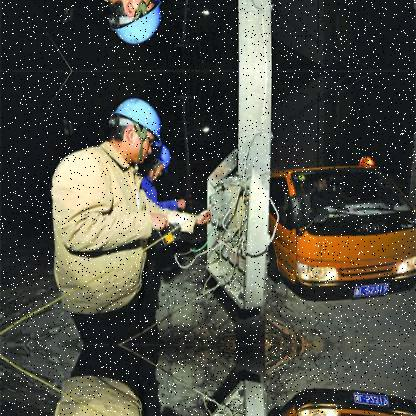Helmet: (100, 94, 162, 166), (107, 0, 160, 43), (138, 128, 180, 180)
